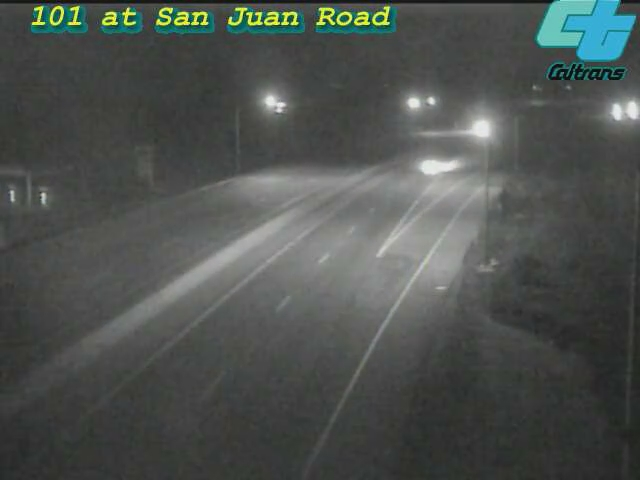vehicle: (391, 126, 471, 206), (455, 104, 505, 154), (592, 87, 640, 137), (607, 84, 640, 134)
